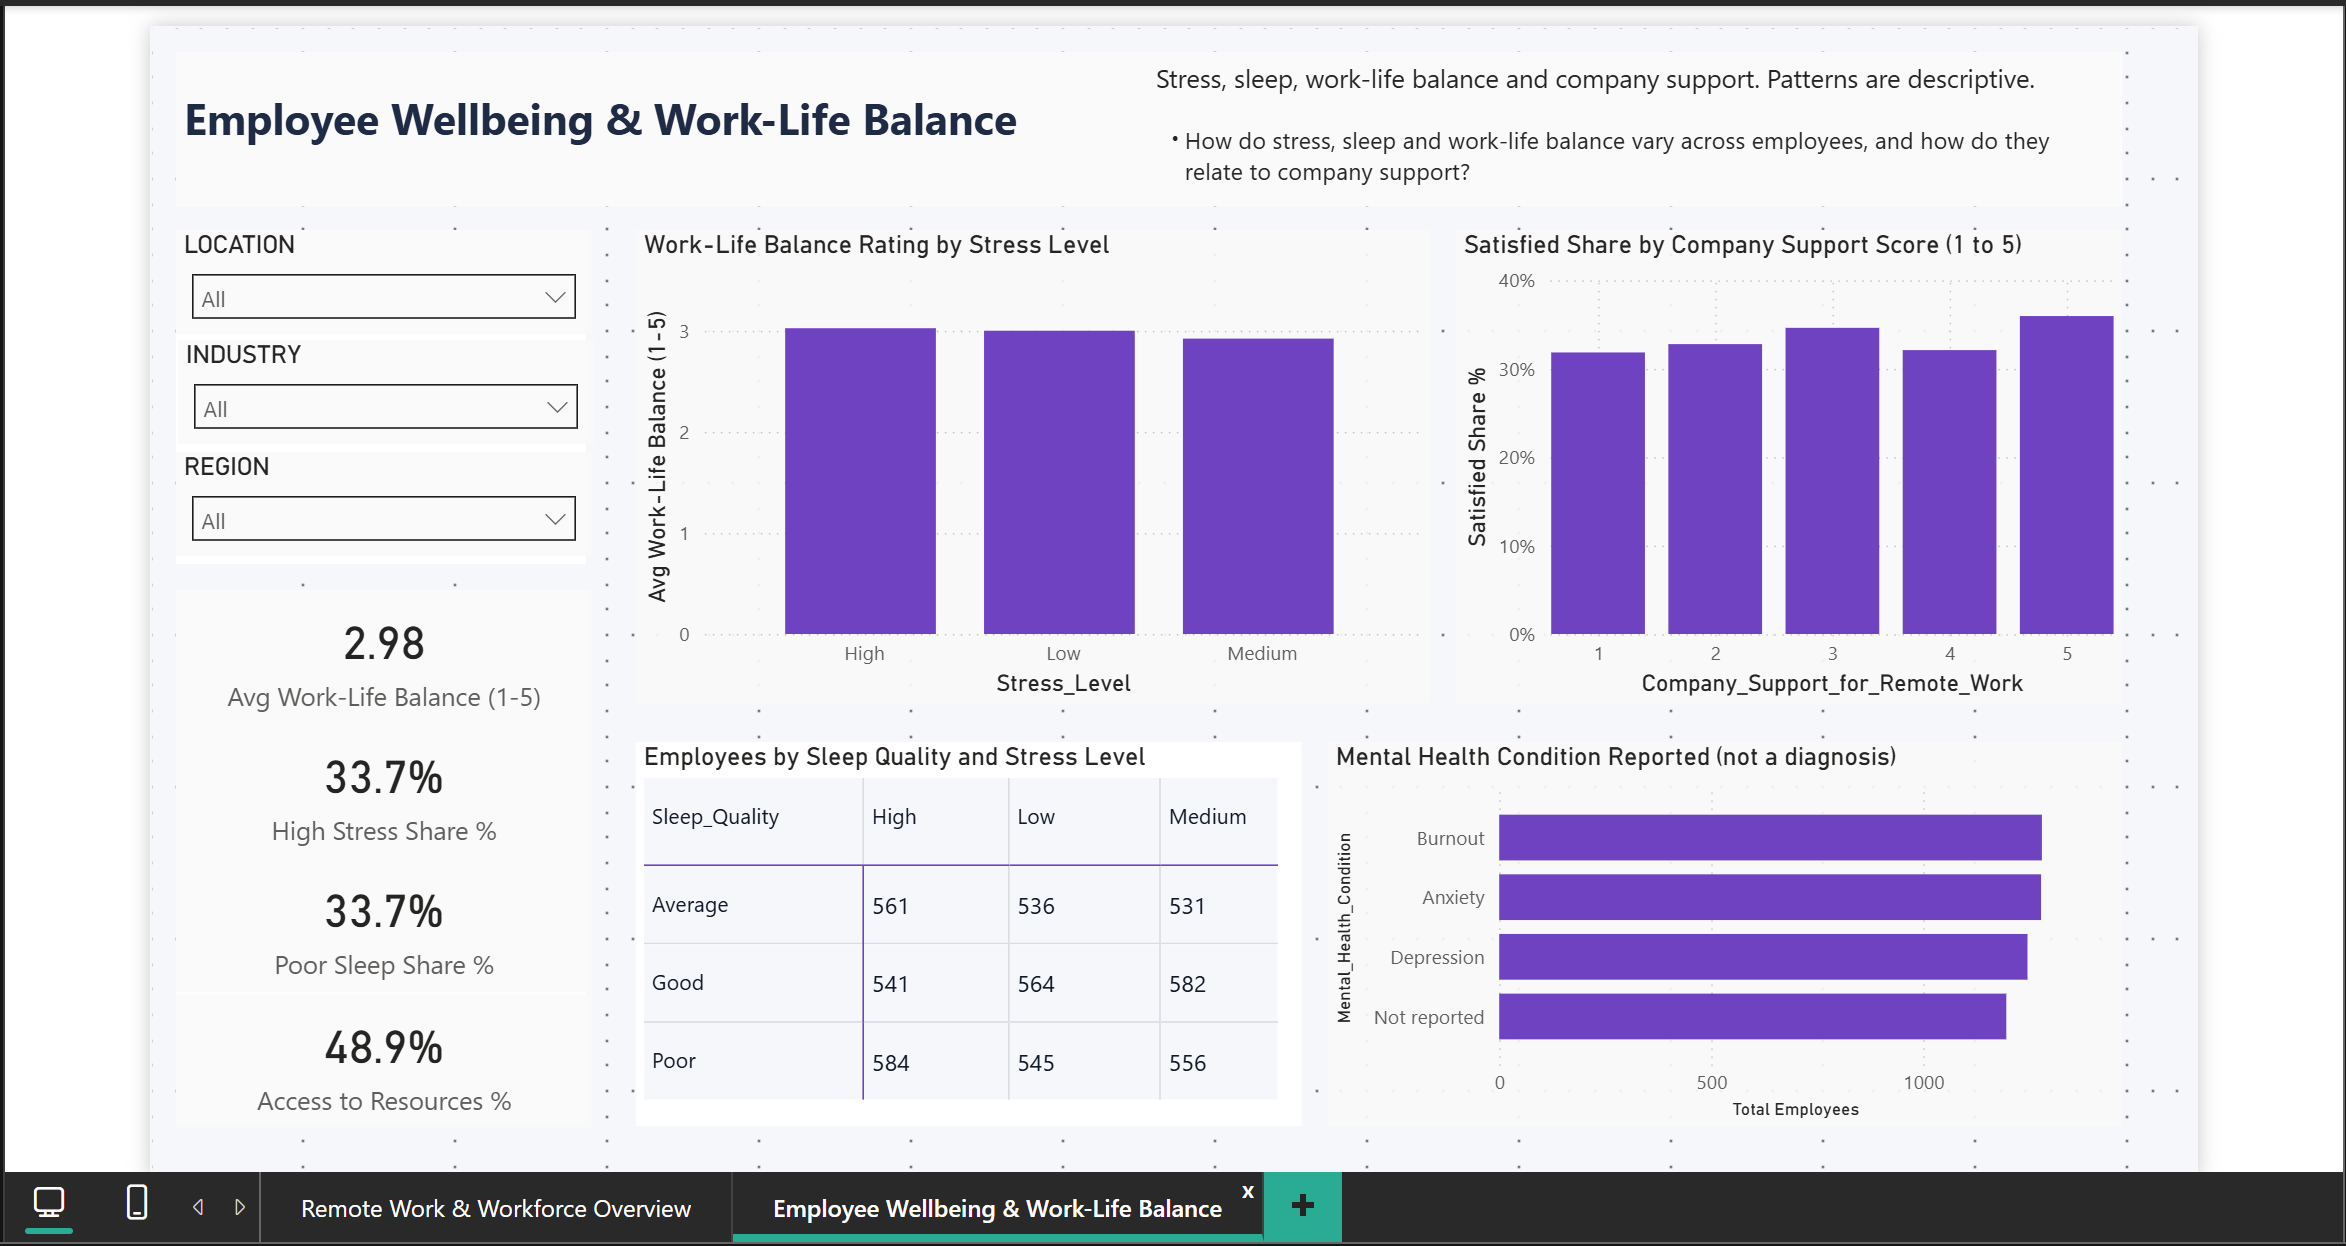

What the dashboard file says about the page in this screenshot:
{"tool":"powerbi","page":{"name":"Employee Wellbeing & Work-Life Balance","canvas":[1280,720],"ordinal":1},"visuals":[{"type":"group","id":"g1","title":"Group 1","box":[16,16,1216,96],"z":0},{"type":"textbox","box":[16,16,608,96],"z":0,"group":"g1"},{"type":"group","id":"g2","title":"Group 3","box":[16,128,256,208],"z":1000},{"type":"card","fields":{"Values":["meaures.Avg Work-Life Balance (1-5)"]},"box":[16,352,260,84],"z":1000,"group":"g3"},{"type":"group","id":"g3","title":"Group 2","box":[16,352,256,336],"z":2000},{"type":"card","fields":{"Values":["meaures.Access to Resources %"]},"box":[16,604,260,84],"z":2000,"group":"g3"},{"type":"clusteredColumnChart","title":"Work-Life Balance Rating by Stress Level","fields":{"Y":["meaures.Avg Work-Life Balance (1-5)"],"Category":["remote_work_cleaned.Stress_Level"]},"box":[304,128,496,296],"z":3000},{"type":"card","fields":{"Values":["meaures.Poor Sleep Share %"]},"box":[16,520,260,84],"z":3000,"group":"g3"},{"type":"columnChart","title":"Satisfied Share by Company Support Score (1 to 5)","fields":{"Category":["remote_work_cleaned.Company_Support_for_Remote_Work"],"Y":["meaures.Satisfied Share %"]},"box":[816,128,416,296],"z":4000},{"type":"card","fields":{"Values":["meaures.High Stress Share %"]},"box":[16,436,260,84],"z":4000,"group":"g3"},{"type":"slicer","title":"INDUSTRY","fields":{"Values":["remote_work_cleaned.Industry"]},"box":[16.9,197.3,260,65],"z":5000,"group":"g2"},{"type":"pivotTable","title":"Employees by Sleep Quality and Stress Level","fields":{"Rows":["remote_work_cleaned.Sleep_Quality"],"Columns":["remote_work_cleaned.Stress_Level"],"Values":["meaures.Total Employees"]},"box":[304,448,416,240],"z":5000},{"type":"slicer","title":"LOCATION","fields":{"Values":["remote_work_cleaned.Work_Location"]},"box":[16,128,260,65],"z":6000,"group":"g2"},{"type":"barChart","title":"Mental Health Condition Reported (not a diagnosis)","fields":{"Category":["remote_work_cleaned.Mental_Health_Condition"],"Y":["meaures.Total Employees"]},"box":[736,448,496,240],"z":6000},{"type":"slicer","title":"REGION","fields":{"Values":["remote_work_cleaned.Region"]},"box":[16,266.7,260,65],"z":7000,"group":"g2"},{"type":"textbox","box":[624,16,608,96],"z":9500,"group":"g1"}]}

Visuals, with their boxes on the page's 1280x720 design canvas (x1, y1, x2, y2). These are canvas units, not pixel positions in the 2346x1246 screenshot, which may show the page scaled, cropped or inside an application window:
"Group 1" group: left=16, top=16, right=1232, bottom=112
textbox: left=16, top=16, right=624, bottom=112
"Group 3" group: left=16, top=128, right=272, bottom=336
card - meaures.Avg Work-Life Balance (1-5): left=16, top=352, right=276, bottom=436
"Group 2" group: left=16, top=352, right=272, bottom=688
card - meaures.Access to Resources %: left=16, top=604, right=276, bottom=688
"Work-Life Balance Rating by Stress Level" clusteredColumnChart: left=304, top=128, right=800, bottom=424
card - meaures.Poor Sleep Share %: left=16, top=520, right=276, bottom=604
"Satisfied Share by Company Support Score (1 to 5)" columnChart: left=816, top=128, right=1232, bottom=424
card - meaures.High Stress Share %: left=16, top=436, right=276, bottom=520
"INDUSTRY" slicer: left=17, top=197, right=277, bottom=262
"Employees by Sleep Quality and Stress Level" pivotTable: left=304, top=448, right=720, bottom=688
"LOCATION" slicer: left=16, top=128, right=276, bottom=193
"Mental Health Condition Reported (not a diagnosis)" barChart: left=736, top=448, right=1232, bottom=688
"REGION" slicer: left=16, top=267, right=276, bottom=332
textbox: left=624, top=16, right=1232, bottom=112
